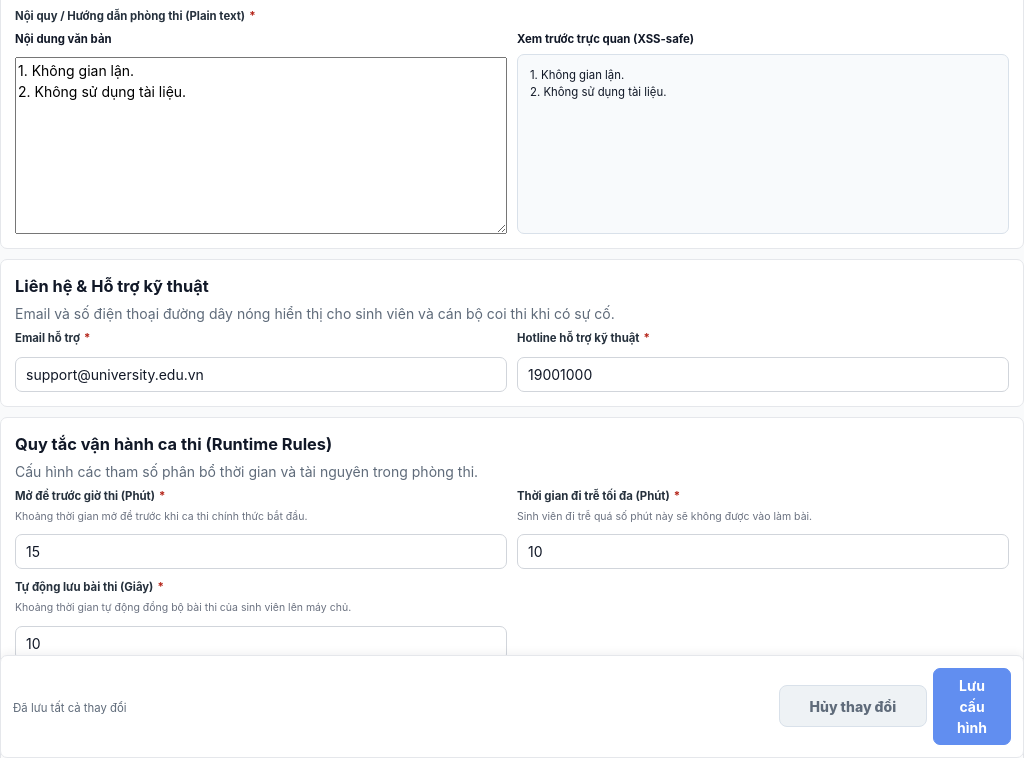
Test: SettingsPage UI and validations › validates email pattern
(page scrolled)
Replace the text in the field labelled "Email hỗ trợ *" with "invalid-email" at (261, 374), box x1=15 y1=357 x2=507 y2=392
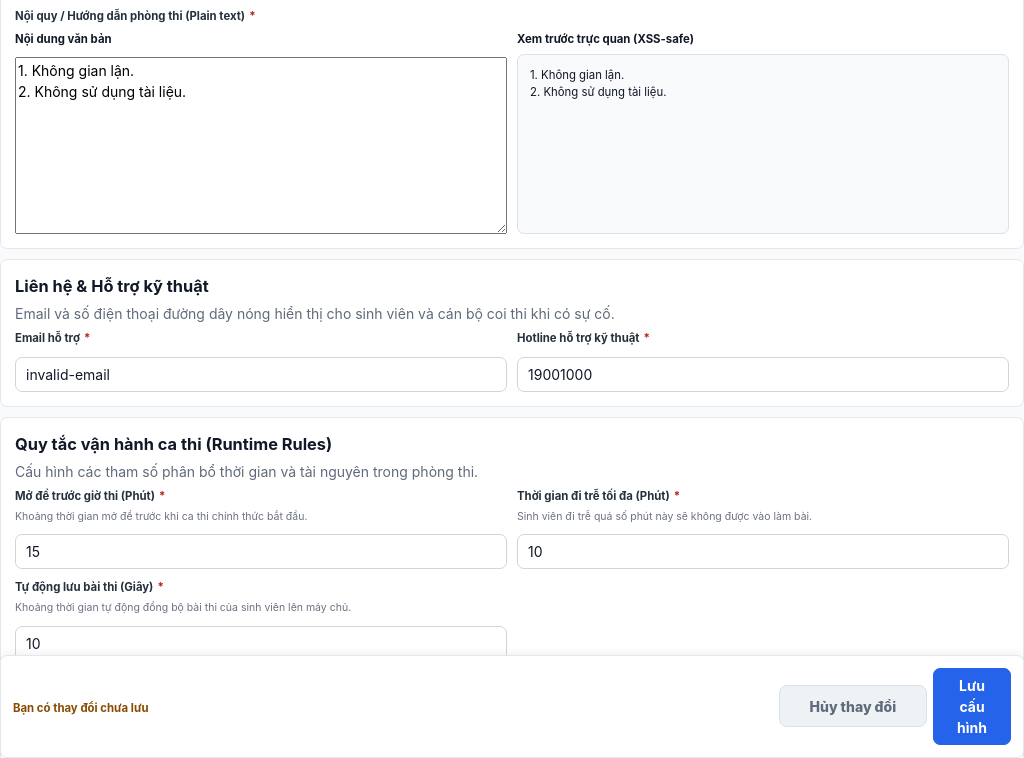
Click the button "Lưu cấu hình" at (972, 706), box x1=933 y1=668 x2=1011 y2=745
(page scrolled)
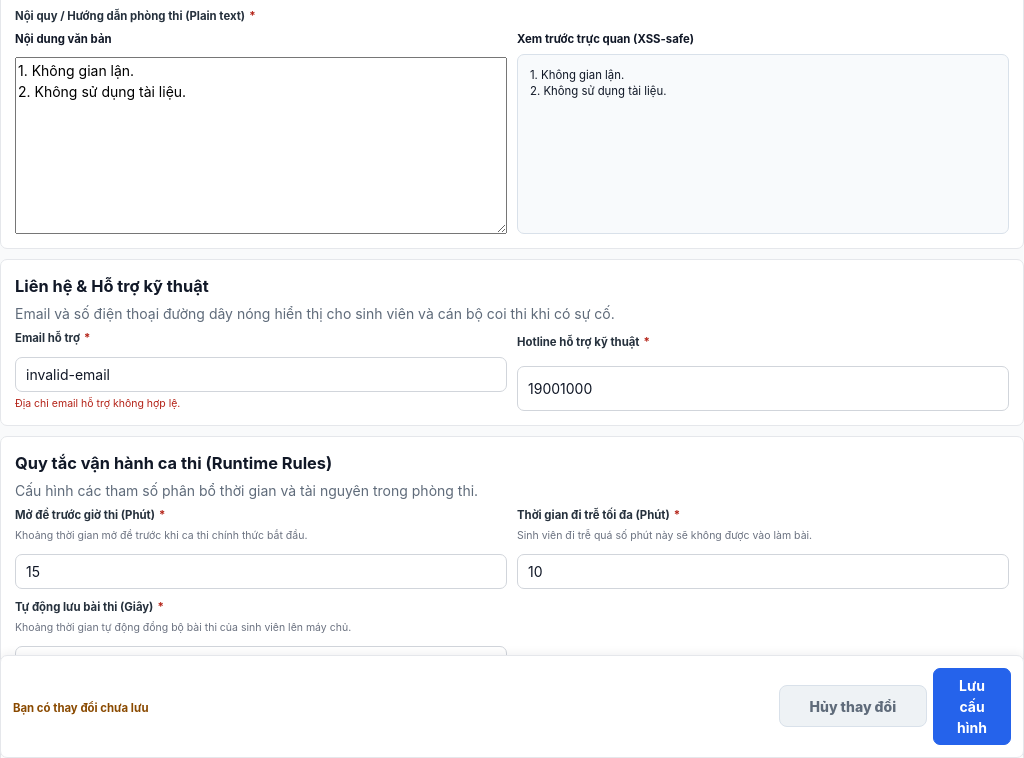
Expected: the text "Địa chỉ email hỗ trợ không hợp lệ." is shown, x1=15 y1=397 x2=180 y2=410
